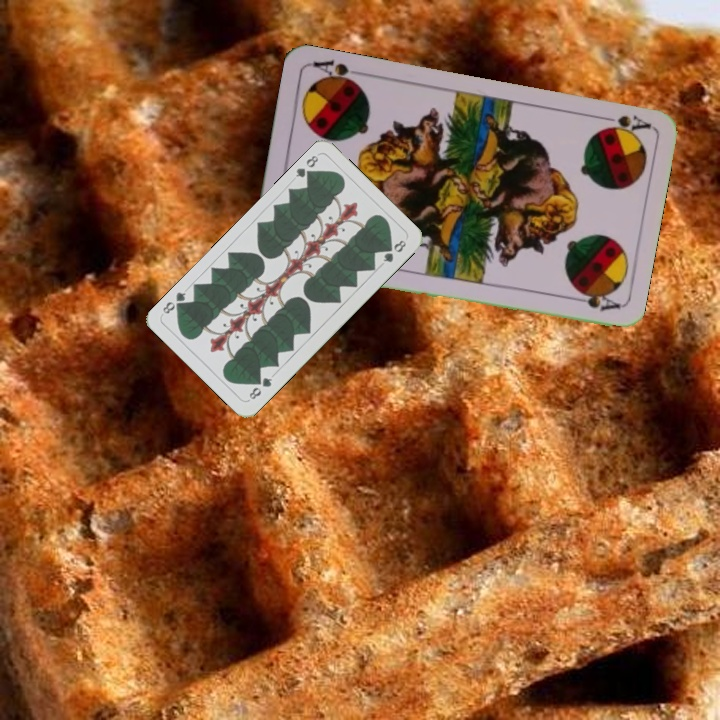G8: (291, 151, 321, 182), (245, 373, 275, 402)
SA: (594, 111, 653, 141)
